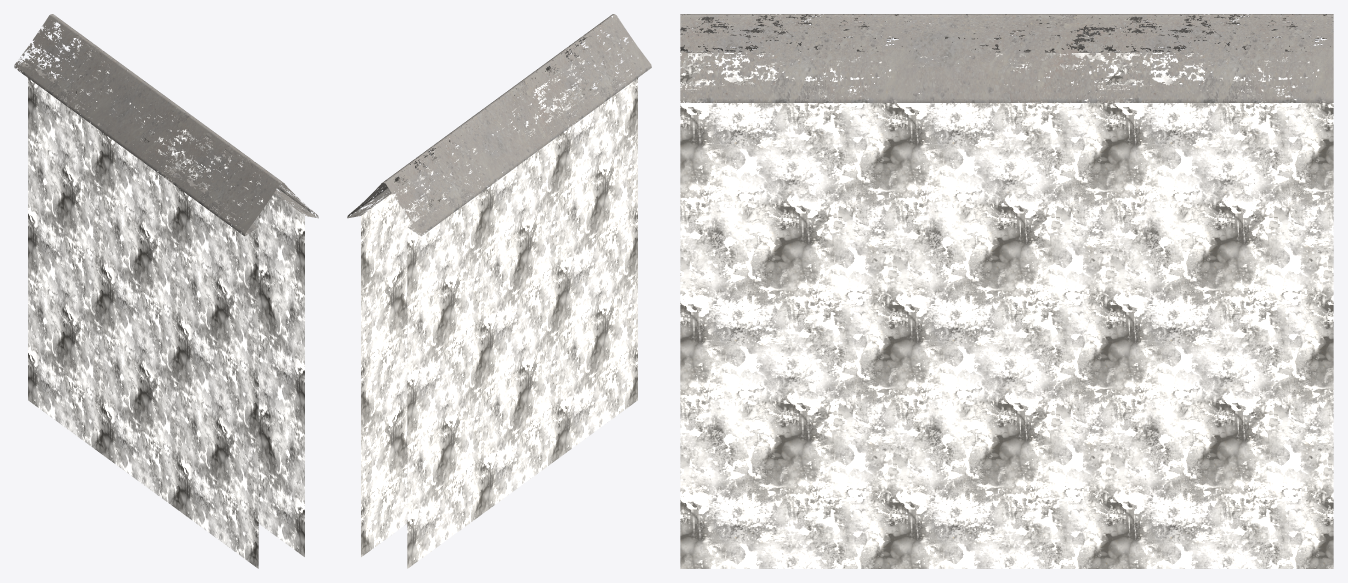
3 renders of one model, left to right at view 1: azimuth 30°, elevation 25°; view 2: azimuth 150°, elevation 25°; view 3: azimuth 270°, elevation 25°, orthographic. The views are drawn at different scales.
Parts seen in each view (by area): view 1: SM_fence_6m_01_LOD0; view 2: SM_fence_6m_01_LOD0; view 3: SM_fence_6m_01_LOD0.
Boxes of the visible parts, x1,y1,x2,y2 form: SM_fence_6m_01_LOD0: [14, 14, 318, 568]; SM_fence_6m_01_LOD0: [347, 14, 651, 568]; SM_fence_6m_01_LOD0: [680, 14, 1333, 568].
Size of the model in its own units: 111 by 600 by 546.
Materials: 2 (2 with a texture image).
